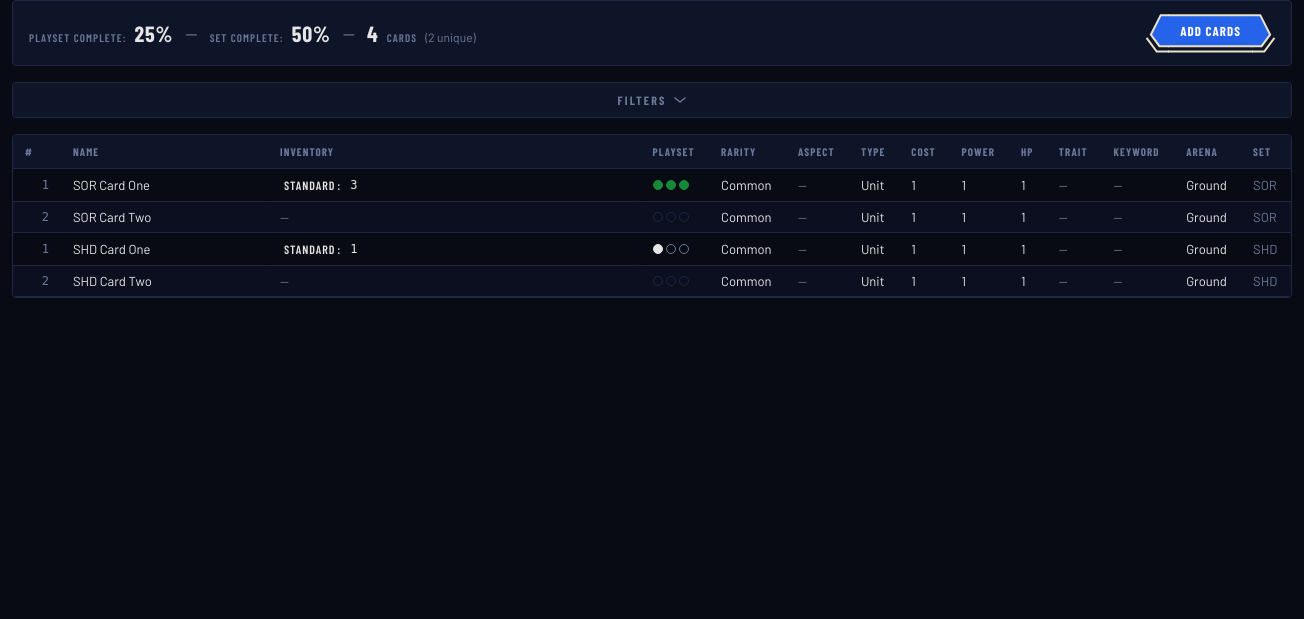
Test: InventoryPage summary stats › updates stats when "Show only incomplete playsets" is toggled on
The width and height of the screenshot is (1304, 619).
Step 1. Click the button "Filters" → x=652, y=100, box [13, 83, 1291, 117]
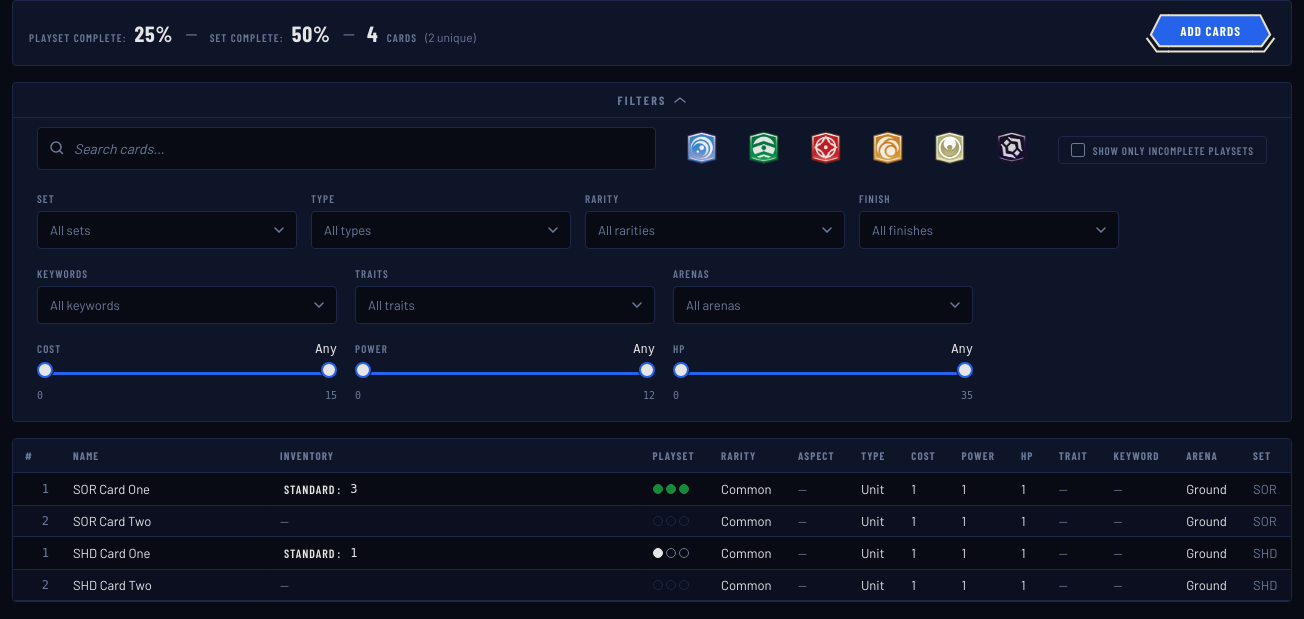
Step 2. Click the button "Show only incomplete playsets" → x=1162, y=150, box [1058, 136, 1267, 164]
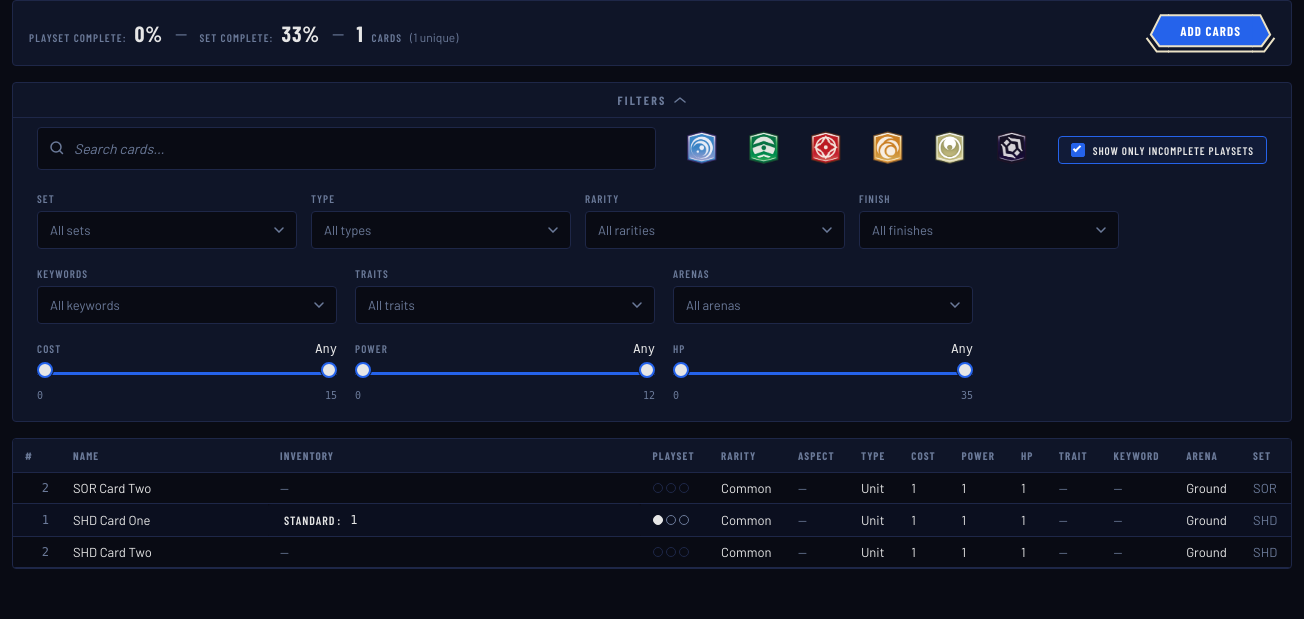
Expected: the text with class "inv-summary__sub" reads "(1 unique)", [410, 30, 458, 44]
